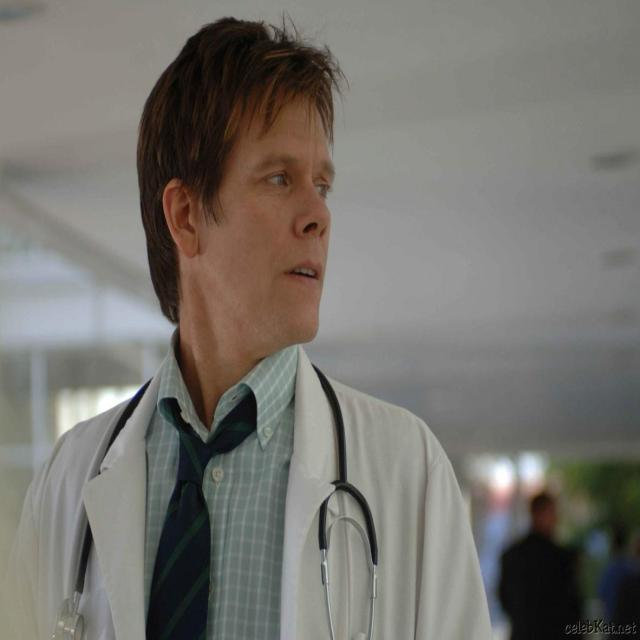no-earmuff: (160, 176, 202, 258)
